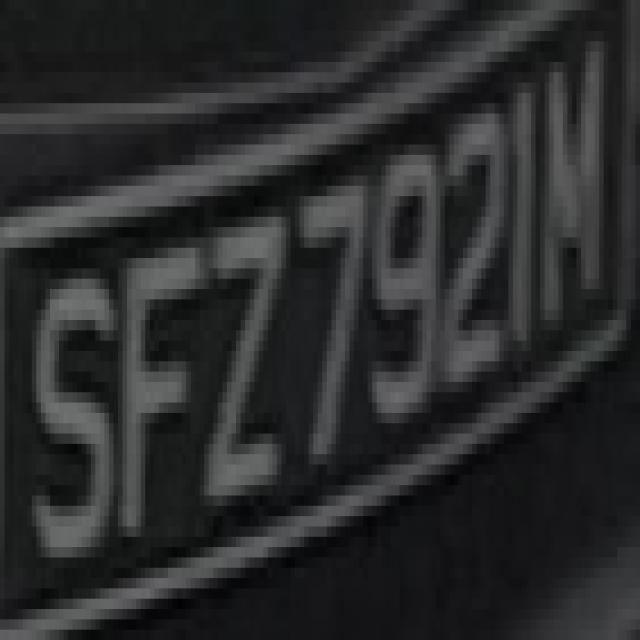1: (499, 62, 531, 423)
2: (427, 93, 508, 413)
7: (282, 175, 368, 496)
9: (350, 144, 440, 433)
F: (104, 217, 190, 568)
M: (531, 21, 613, 361)
S: (23, 237, 109, 578)
Z: (195, 176, 286, 526)
